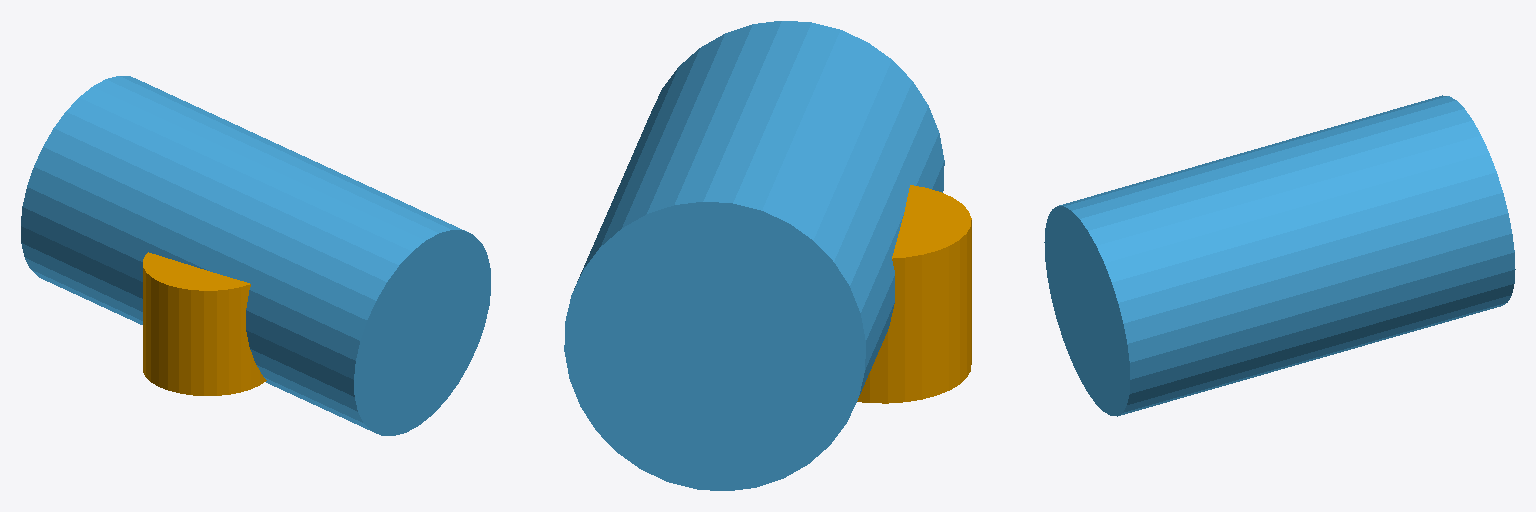
The robot description file, URDF, robot "pepe":
<?xml version="1.0"?><robot name="pepe">
	<link name="0">
		<visual>
			<geometry>
				<cylinder length="0.7893298455281619" radius="0.4449545980872709"/>
			</geometry>
		</visual>
		<collision>
			<geometry>
				<cylinder length="0.7893298455281619" radius="0.4449545980872709"/>
			</geometry>
		</collision>
		<inertial>
			<mass value="0.4909528609240759"/>
			<inertia ixx="0.03" iyy="0.03" izz="0.03" ixy="0" ixz="0" iyx="0"/>
		</inertial>
	</link>
	<link name="11">
		<visual>
			<geometry>
				<cylinder length="2.8841292678793375" radius="0.7542216174333798"/>
			</geometry>
		</visual>
		<collision>
			<geometry>
				<cylinder length="2.8841292678793375" radius="0.7542216174333798"/>
			</geometry>
		</collision>
		<inertial>
			<mass value="5.154215188081768"/>
			<inertia ixx="0.03" iyy="0.03" izz="0.03" ixy="0" ixz="0" iyx="0"/>
		</inertial>
	</link>
	<joint name="11_to_0" type="revolute">
		<parent link="0"/>
		<child link="11"/>
		<axis xyz="1 0 0"/>
		<limit effort="1" upper="-3.1415" lower="3.1415" velocity="1"/>
		<origin rpy="11.11280493169299 0.09283493884436328 0.3982078433867569" xyz="0.5511662130542769 0.30373143222696186 0.19728006789757924"/>
	</joint>
</robot>

--- What the picture shows (computed from the rendered views, not written in the file) ---
The picture shows the robot from 3 angles, left to right: view 1: azimuth 30°, elevation 25°; view 2: azimuth 150°, elevation 25°; view 3: azimuth 270°, elevation 25°; orthographic projection.
Model pepe with 2 links and 1 joints (1 revolute), rooted at 0, posed all joints at 0.
Links seen in each view (by area): view 1: 11, 0; view 2: 11, 0; view 3: 11.
Link boxes in pixels (x1,y1,x2,y2): 11: (21, 76, 490, 435); 0: (143, 252, 266, 395); 11: (564, 21, 944, 490); 0: (857, 185, 971, 403); 11: (1044, 95, 1515, 416).
Bounding box of the posed robot: 2.48 × 3.24 × 1.83 m (x, y, z).
Geometry: primitives only (box / cylinder / sphere), no mesh files.
